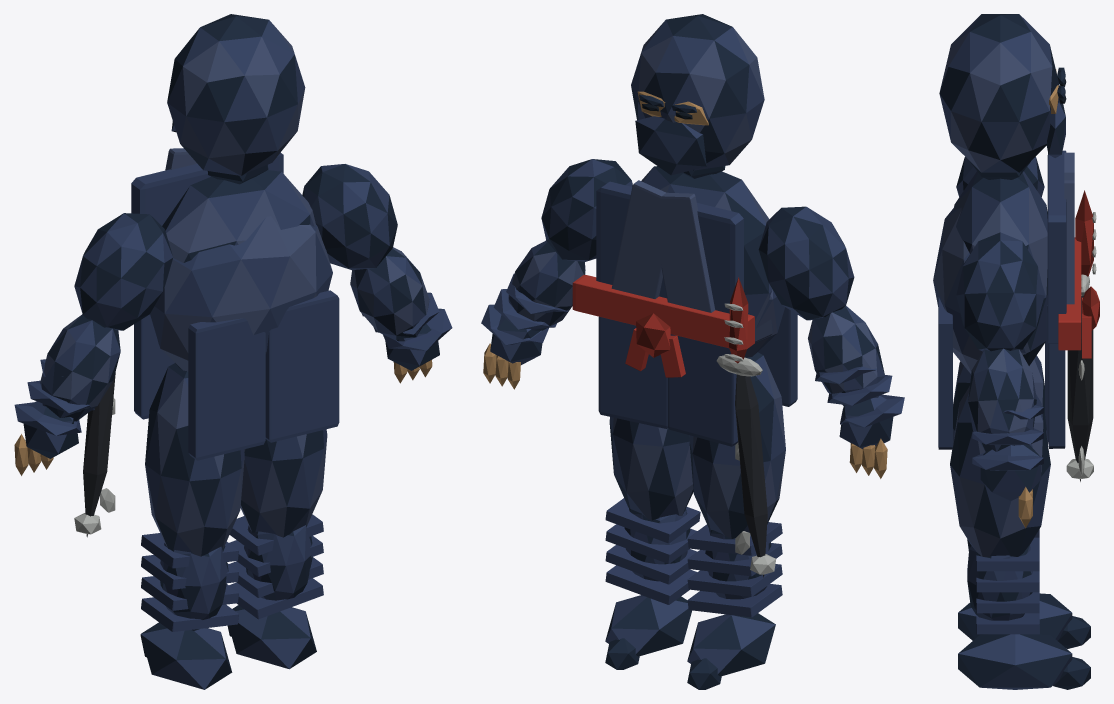
3 views of the same model, side by side, from view 1: azimuth 30°, elevation 25°; view 2: azimuth 150°, elevation 25°; view 3: azimuth 270°, elevation 25° (orthographic). The views are drawn at different scales.
Bounding box in the file's own units: 1.16 × 1.71 × 0.3963.
